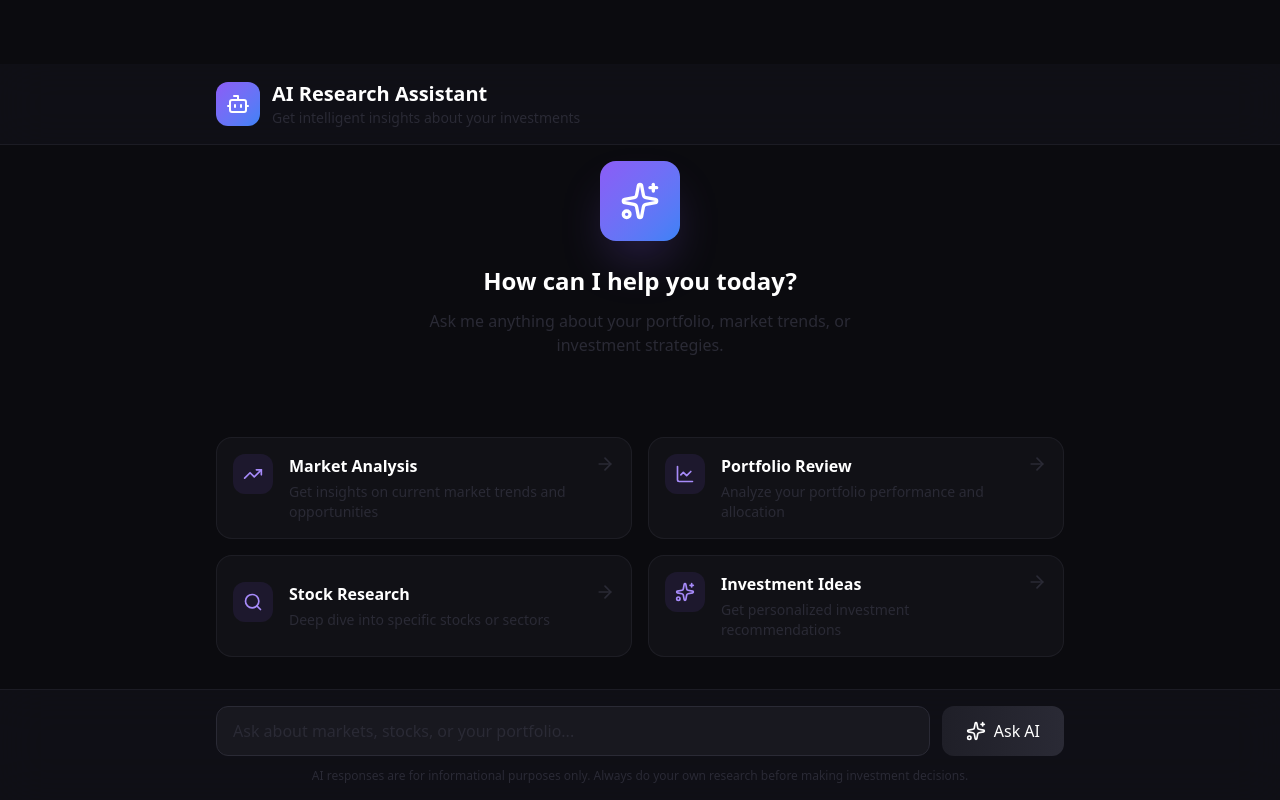
Test: AIResearchPage › Form Submission › disables input while loading
The image size is (1280, 800).
In the field with placeholder "Ask about markets, stocks, or your portfolio...": (573, 731) x1=216 y1=706 x2=930 y2=756, type "Test query"
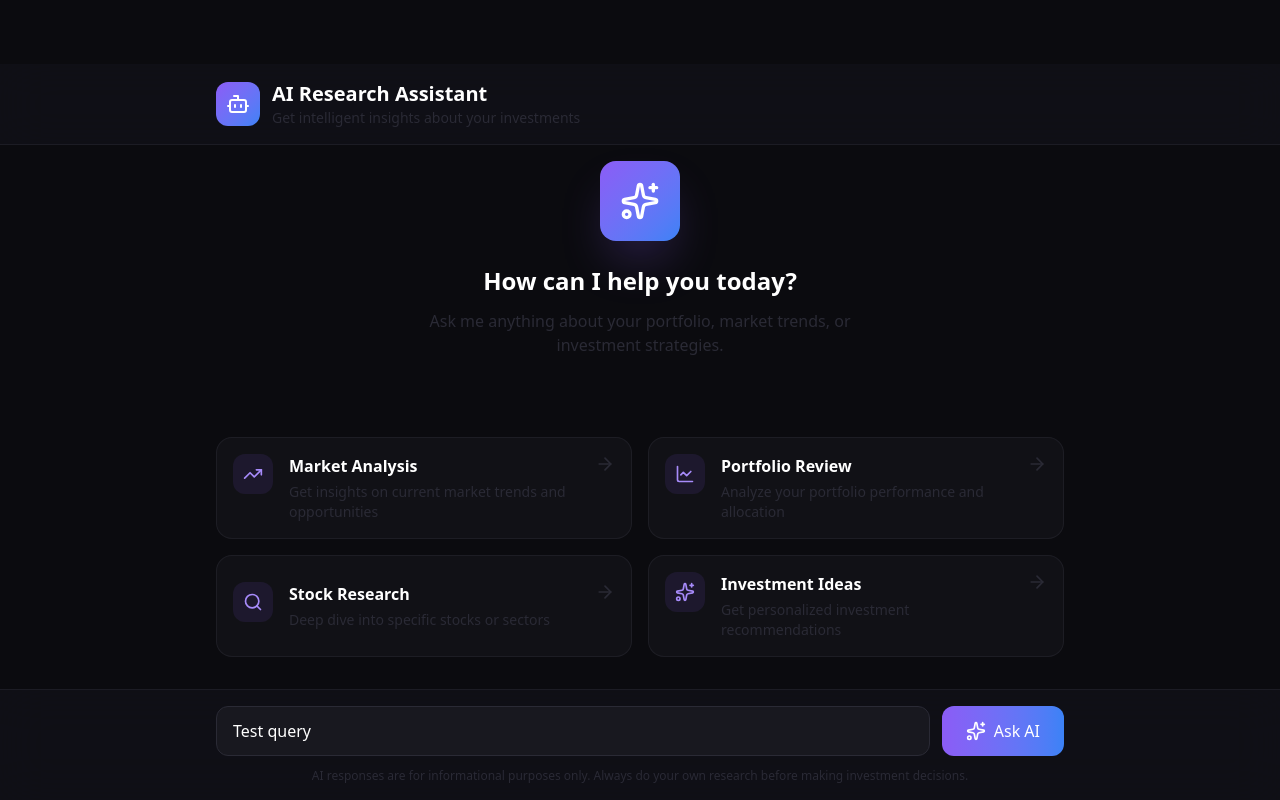
Submit the form with placeholder "Ask about markets, stocks, or your portfolio...", box x1=216 y1=706 x2=1064 y2=756
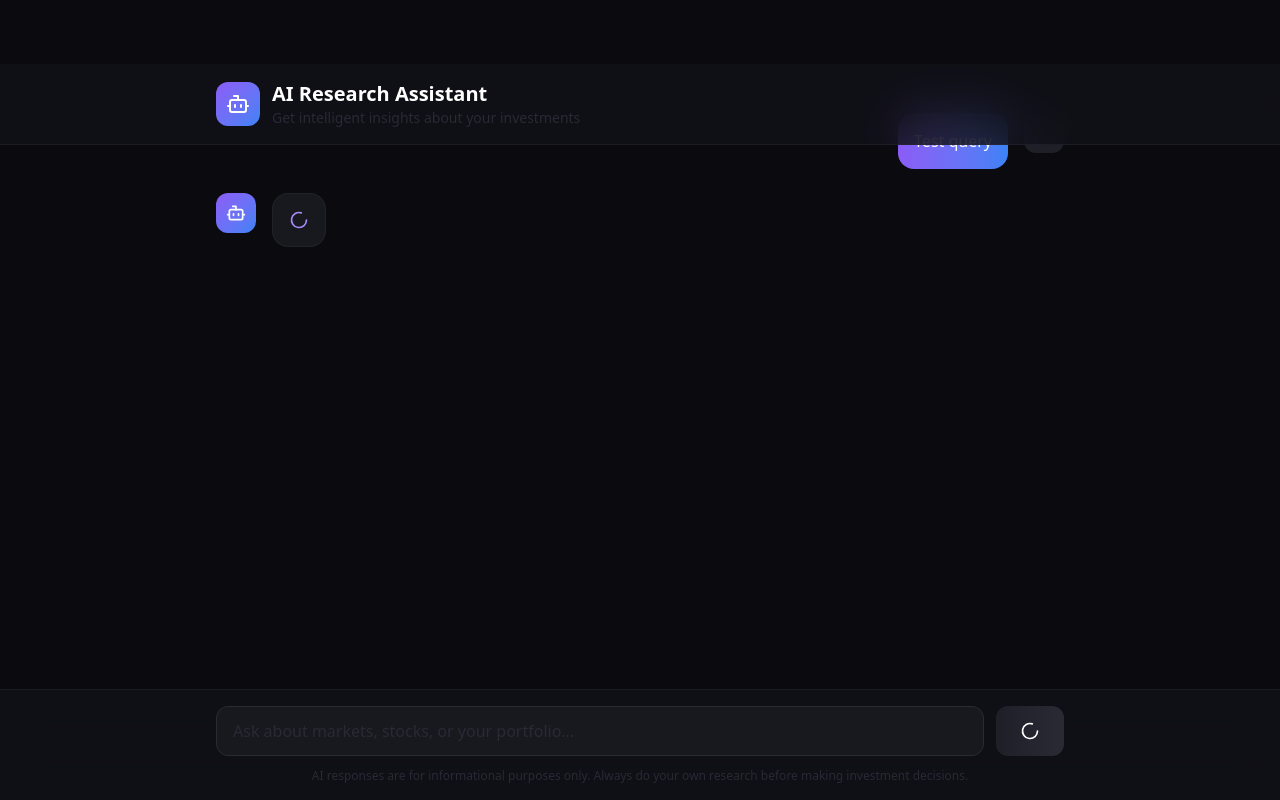
Expected: the field with placeholder "Ask about markets, stocks, or your portfolio..." is disabled, x1=216 y1=706 x2=984 y2=756
